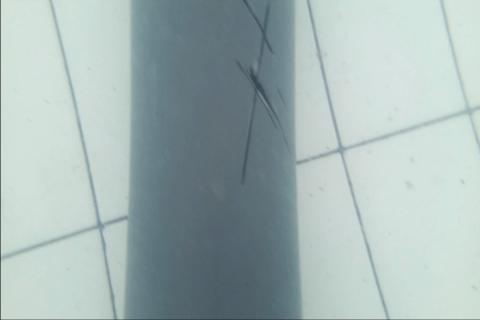keretakan: (233, 0, 290, 185)
